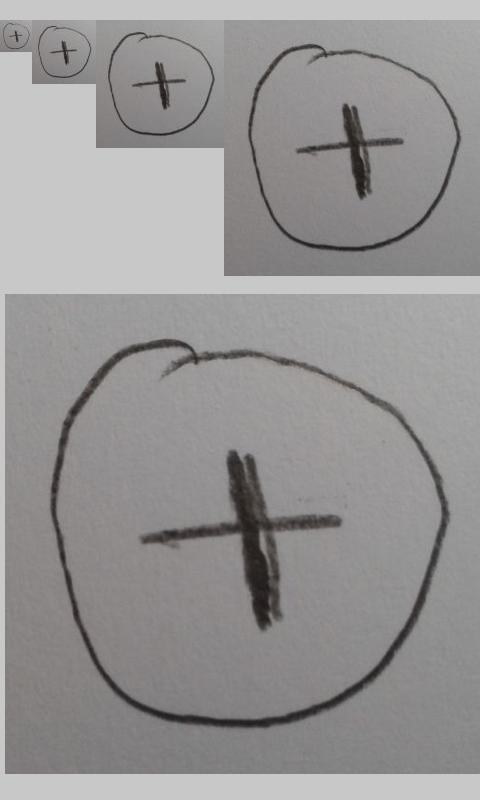button: (48, 335, 450, 730), (247, 42, 462, 253), (107, 31, 217, 136), (37, 25, 92, 79), (2, 22, 30, 50)
